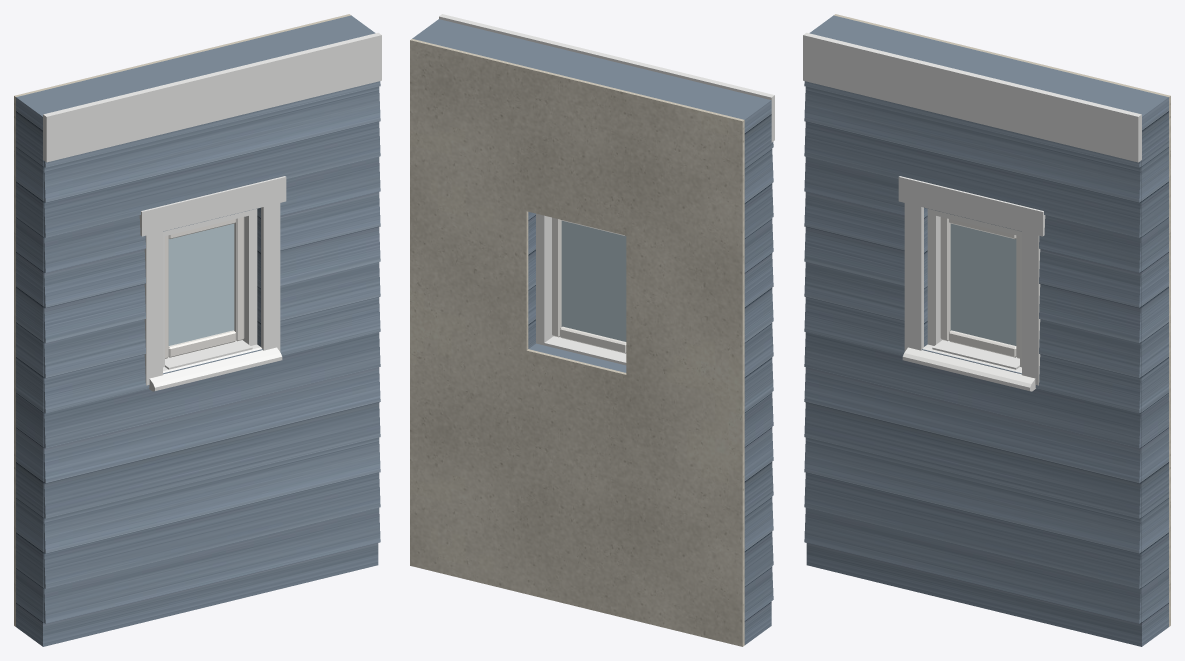
Rendered from wall_siding_upper_small_window.glb.
3 views of the same model, side by side, from view 1: azimuth 30°, elevation 25°; view 2: azimuth 150°, elevation 25°; view 3: azimuth 330°, elevation 25° (orthographic).
Visible parts, largest first — view 1: wall_siding_upper_small_window_siding, wall_siding_upper_small_window_trim, wall_siding_upper_small_window_glass, wall_siding_upper_small_window_sash, wall_siding_upper_small_window_frame, wall_siding_upper_small_window_plaster; view 2: wall_siding_upper_small_window_plaster, wall_siding_upper_small_window_siding, wall_siding_upper_small_window_glass, wall_siding_upper_small_window_trim, wall_siding_upper_small_window_sash, wall_siding_upper_small_window_frame; view 3: wall_siding_upper_small_window_siding, wall_siding_upper_small_window_trim, wall_siding_upper_small_window_glass, wall_siding_upper_small_window_sash, wall_siding_upper_small_window_frame, wall_siding_upper_small_window_plaster.
Part boxes in pixels (x1,y1,x2,y2): wall_siding_upper_small_window_siding: [16, 15, 380, 646]; wall_siding_upper_small_window_trim: [43, 32, 381, 391]; wall_siding_upper_small_window_glass: [168, 223, 234, 345]; wall_siding_upper_small_window_sash: [165, 217, 244, 358]; wall_siding_upper_small_window_frame: [163, 209, 257, 367]; wall_siding_upper_small_window_plaster: [14, 14, 350, 626]; wall_siding_upper_small_window_plaster: [410, 39, 744, 646]; wall_siding_upper_small_window_siding: [412, 19, 773, 644]; wall_siding_upper_small_window_glass: [561, 220, 626, 341]; wall_siding_upper_small_window_trim: [439, 14, 774, 365]; wall_siding_upper_small_window_sash: [552, 217, 626, 353]; wall_siding_upper_small_window_frame: [536, 213, 553, 345]; wall_siding_upper_small_window_siding: [804, 15, 1168, 646]; wall_siding_upper_small_window_trim: [803, 32, 1141, 391]; wall_siding_upper_small_window_glass: [950, 223, 1016, 345]; wall_siding_upper_small_window_sash: [940, 217, 1019, 358]; wall_siding_upper_small_window_frame: [927, 209, 1021, 367]; wall_siding_upper_small_window_plaster: [834, 14, 1170, 626].
Bounding box in the file's own units: 2 × 3.04 × 0.38.
6 materials, 2 textured.
